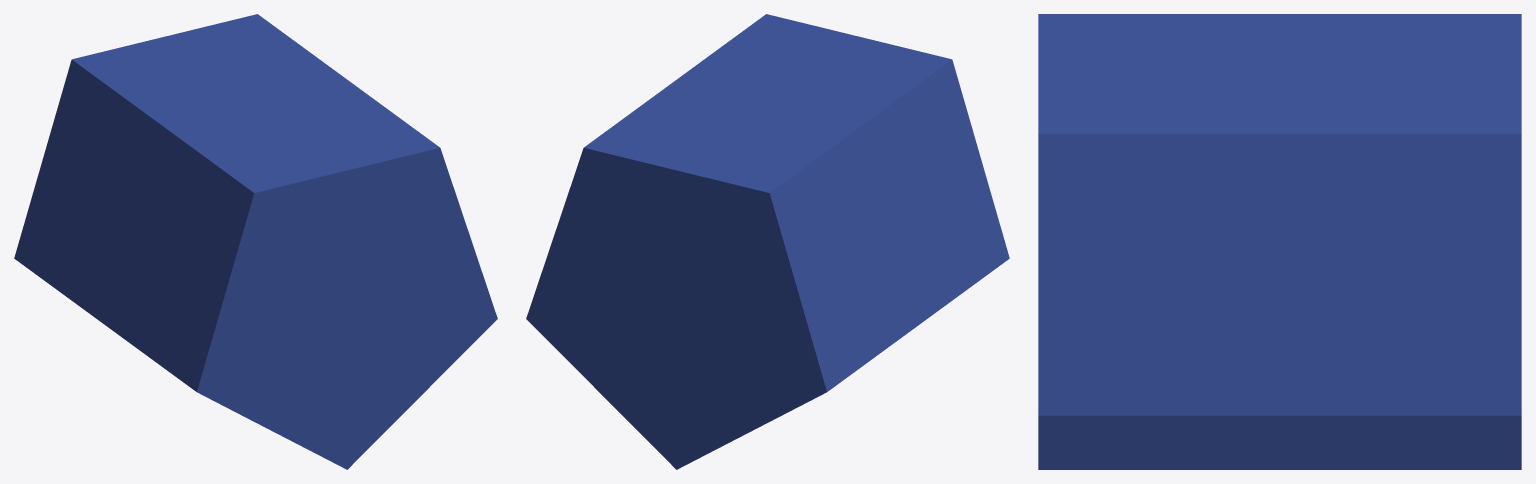
File: A_pentaprism.obj
3 views of the same model, side by side, from view 1: azimuth 30°, elevation 25°; view 2: azimuth 150°, elevation 25°; view 3: azimuth 270°, elevation 25° (orthographic). The views are drawn at different scales.
Parts seen in each view (by area): view 1: obj_0; view 2: obj_0; view 3: obj_0.
Boxes of the visible parts, x1=… form: obj_0: x1=14, y1=14, x2=497, y2=469; obj_0: x1=526, y1=14, x2=1009, y2=469; obj_0: x1=1038, y1=14, x2=1521, y2=469.
Bounding box in the file's own units: 19.02 × 18.09 × 20.
